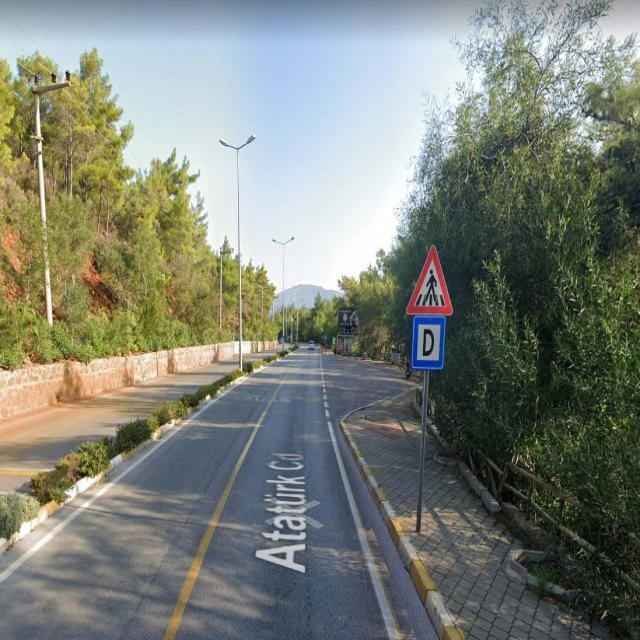durak: (411, 316, 445, 368)
